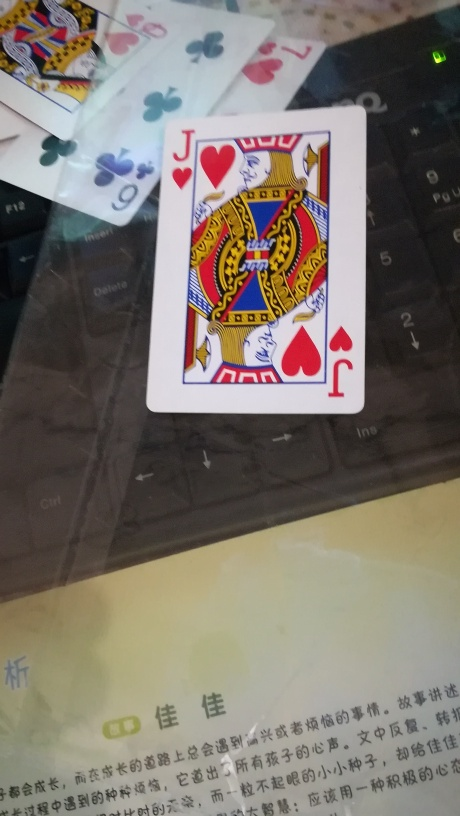hx j: (144, 101, 366, 416)
